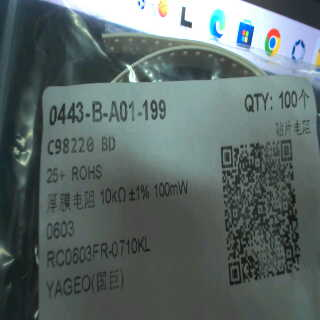10kR: (97, 185, 129, 210)
